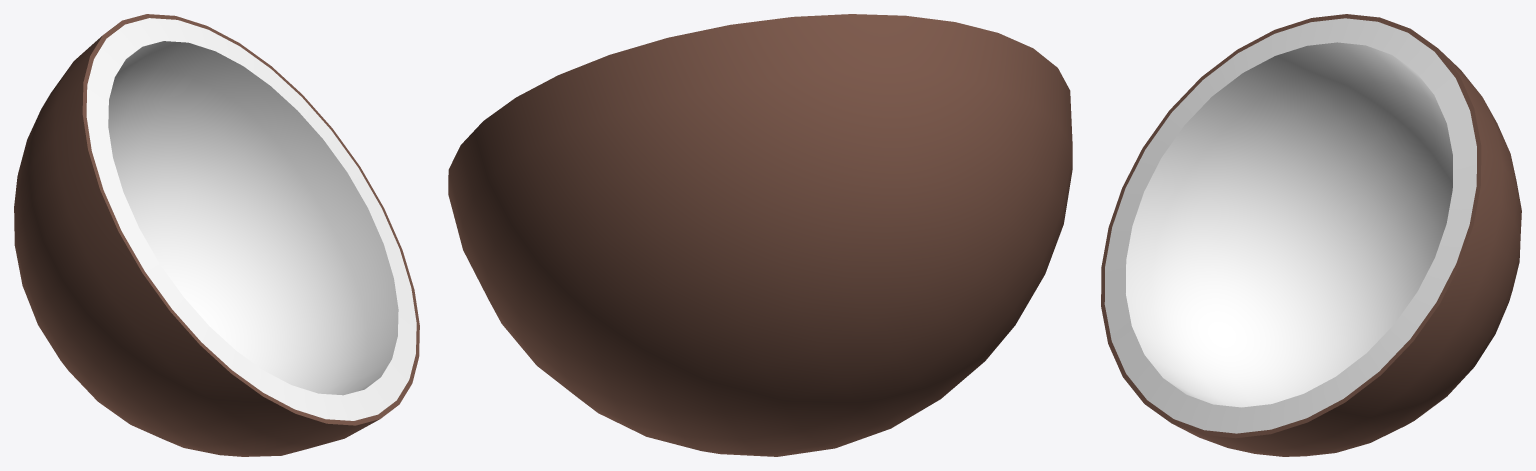
File: coconut.glb
The picture shows the model from 3 angles, left to right: view 1: azimuth 30°, elevation 25°; view 2: azimuth 150°, elevation 25°; view 3: azimuth 270°, elevation 25°; orthographic projection. The views are drawn at different scales.
Visible parts, largest first — view 1: Cube.341; view 2: Cube.341; view 3: Cube.341.
Boxes of the visible parts, x1,y1,x2,y2 form: Cube.341: [14, 14, 419, 456]; Cube.341: [448, 14, 1072, 456]; Cube.341: [1101, 14, 1521, 456].
Size of the model in its own units: 2.23 by 2.09 by 2.18.
1 material, 1 textured.
